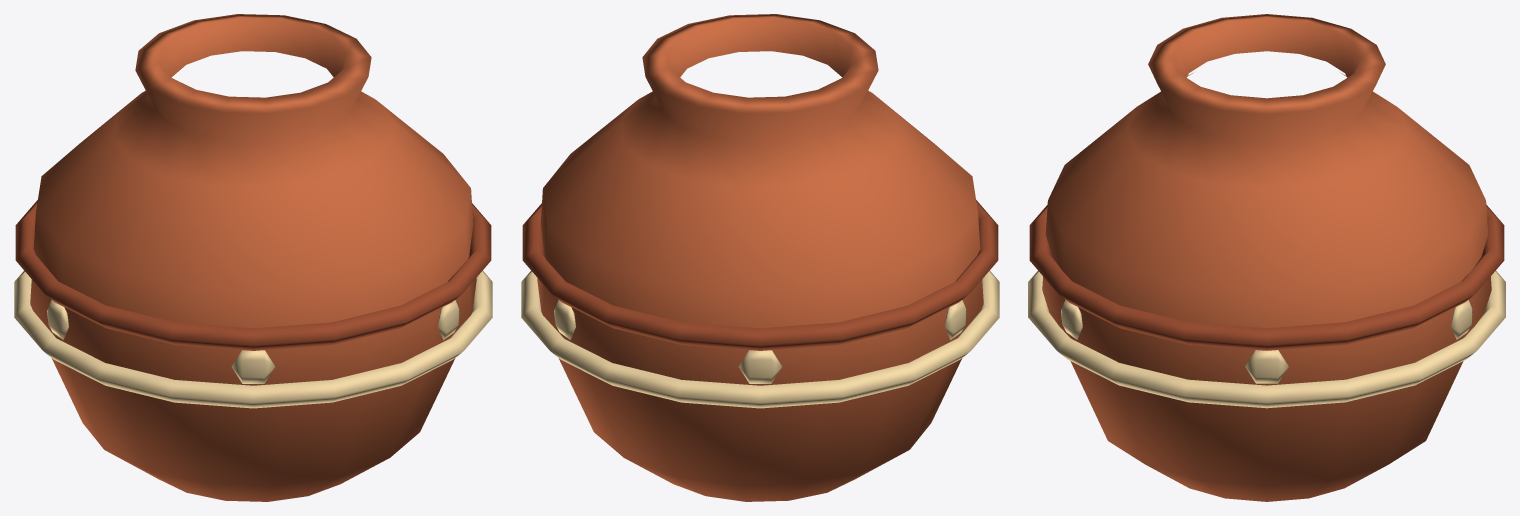
Rendered from ClayPot.glb.
The picture shows the model from 3 angles, left to right: view 1: azimuth 30°, elevation 25°; view 2: azimuth 150°, elevation 25°; view 3: azimuth 270°, elevation 25°; orthographic projection.
Visible parts, largest first — view 1: Body; view 2: Body; view 3: Body.
Part boxes in pixels (x1,y1,x2,y2): Body: (14, 14, 492, 501); Body: (521, 14, 999, 501); Body: (1028, 14, 1505, 501).
Size of the model in its own units: 1.55 by 1.4 by 1.53.
1 material, 1 textured.
